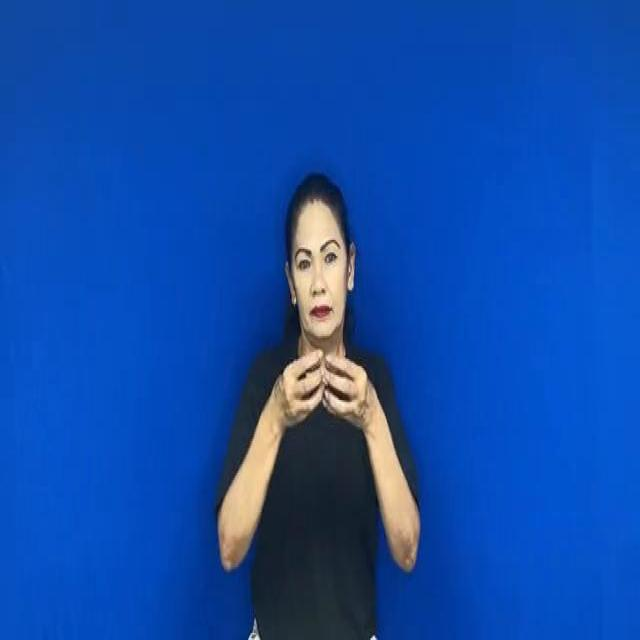egg: (259, 331, 374, 441)
